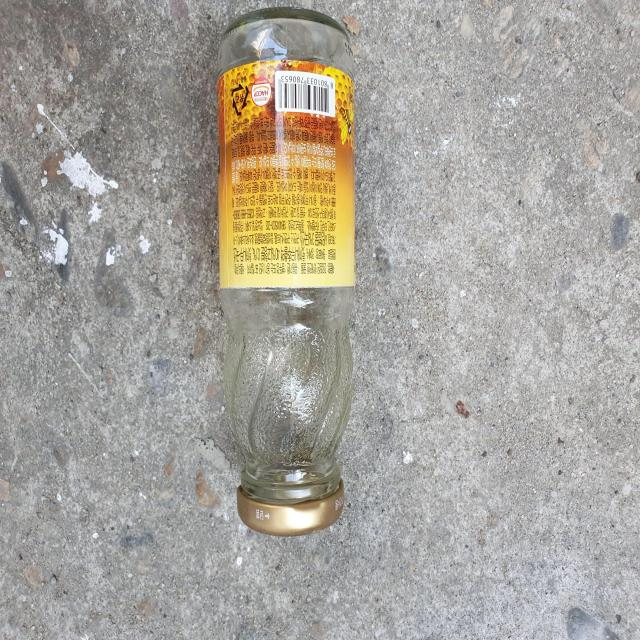glass: (217, 6, 355, 535)
